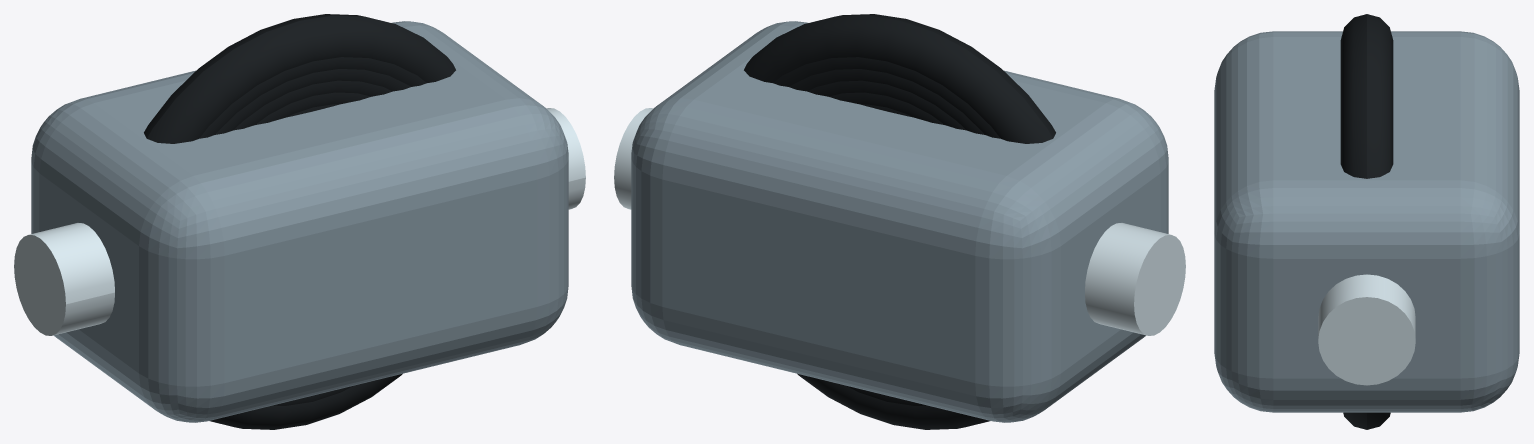
The model's file is g4ed_gaskets_seals.glb.
3 renders of one model, left to right at view 1: azimuth 30°, elevation 25°; view 2: azimuth 150°, elevation 25°; view 3: azimuth 270°, elevation 25°, orthographic. The views are drawn at different scales.
Visible parts, largest first — view 1: asset_mesh__g4ed_417__reference_body, asset_mesh__g4ed_405__reference_seal, asset_mesh__g4ed_417__reference_axis, asset_mesh__g4ed_404__reference_seal, asset_mesh__g4ed_403__reference_seal, asset_mesh__g4ed_402__reference_seal, asset_mesh__g4ed_401__reference_seal; view 2: asset_mesh__g4ed_417__reference_body, asset_mesh__g4ed_405__reference_seal, asset_mesh__g4ed_417__reference_axis, asset_mesh__g4ed_404__reference_seal, asset_mesh__g4ed_403__reference_seal, asset_mesh__g4ed_402__reference_seal, asset_mesh__g4ed_401__reference_seal; view 3: asset_mesh__g4ed_417__reference_body, asset_mesh__g4ed_417__reference_axis, asset_mesh__g4ed_405__reference_seal.
Part boxes in pixels (<box>): asset_mesh__g4ed_417__reference_body: <box>31,21,568,422</box>; asset_mesh__g4ed_405__reference_seal: <box>144,14,455,429</box>; asset_mesh__g4ed_417__reference_axis: <box>14,108,585,335</box>; asset_mesh__g4ed_404__reference_seal: <box>199,57,426,405</box>; asset_mesh__g4ed_403__reference_seal: <box>215,69,410,134</box>; asset_mesh__g4ed_402__reference_seal: <box>234,80,392,130</box>; asset_mesh__g4ed_401__reference_seal: <box>255,92,370,124</box>; asset_mesh__g4ed_417__reference_body: <box>631,21,1168,422</box>; asset_mesh__g4ed_405__reference_seal: <box>744,14,1055,429</box>; asset_mesh__g4ed_417__reference_axis: <box>614,108,1185,335</box>; asset_mesh__g4ed_404__reference_seal: <box>773,57,1000,405</box>; asset_mesh__g4ed_403__reference_seal: <box>789,69,984,134</box>; asset_mesh__g4ed_402__reference_seal: <box>807,80,965,130</box>; asset_mesh__g4ed_401__reference_seal: <box>829,92,944,124</box>; asset_mesh__g4ed_417__reference_body: <box>1214,31,1519,412</box>; asset_mesh__g4ed_417__reference_axis: <box>1318,274,1415,385</box>; asset_mesh__g4ed_405__reference_seal: <box>1340,14,1393,429</box>.
Bounding box in the file's own units: 1.72 × 1.27 × 0.93.
